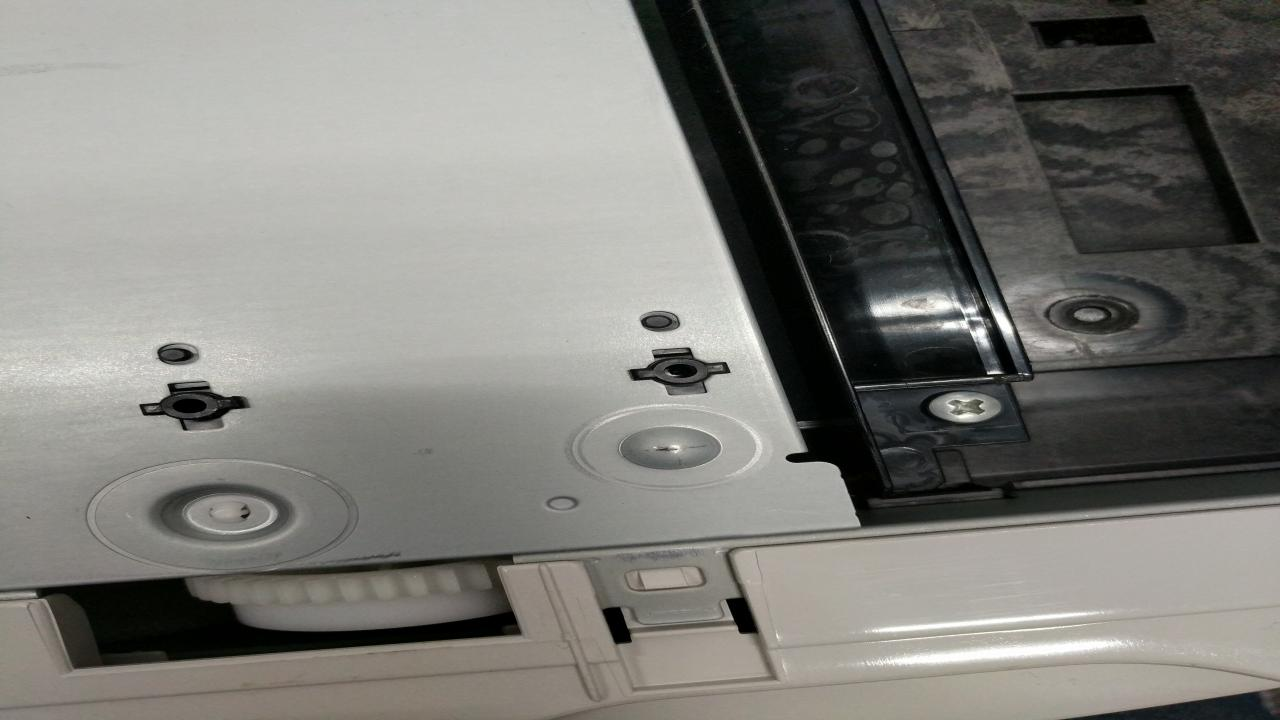CRS: (924, 391, 1010, 424)
